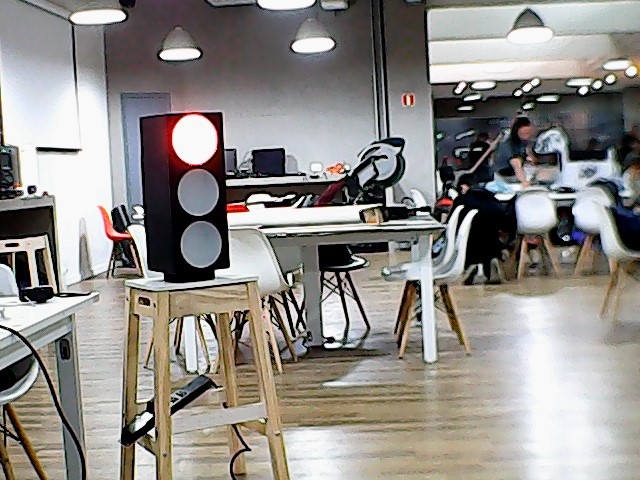vermelho: (137, 113, 236, 273)
